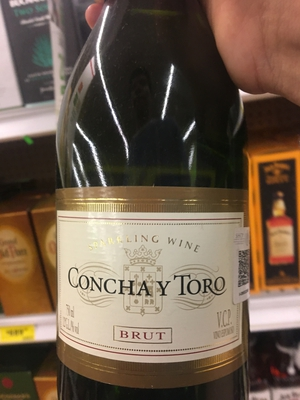brut: (54, 15, 257, 391)
